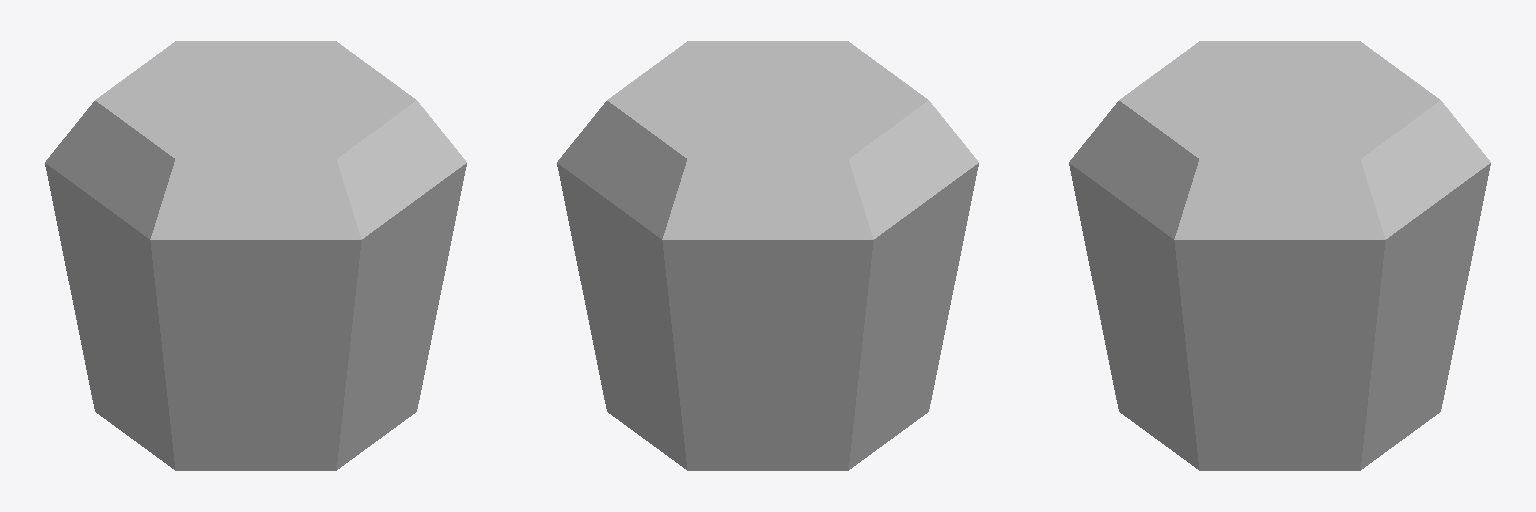
Rendered from Sink_Handle_Highlight.obj.
3 renders of one model, left to right at view 1: azimuth 30°, elevation 25°; view 2: azimuth 150°, elevation 25°; view 3: azimuth 270°, elevation 25°, orthographic.
Visible parts, largest first — view 1: Mesh1 Model; view 2: Mesh1 Model; view 3: Mesh1 Model.
Part boxes in pixels (bbox=[...]): Mesh1 Model: bbox=[45, 41, 466, 470]; Mesh1 Model: bbox=[557, 41, 978, 470]; Mesh1 Model: bbox=[1069, 41, 1490, 470].
Bounding box in the file's own units: 0.0756 × 0.071 × 0.0873.